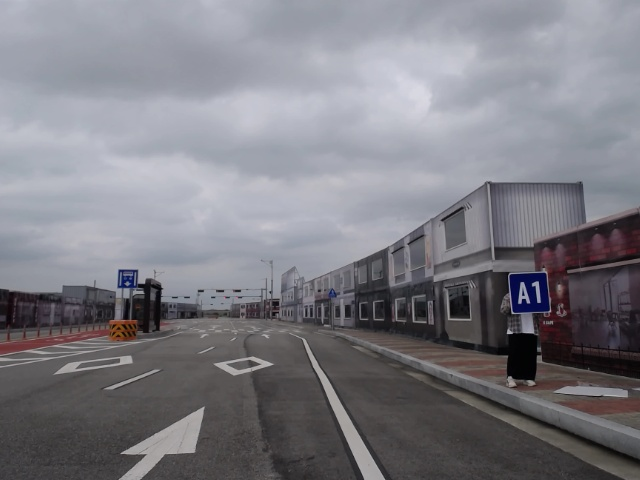delivery_a1: (509, 271, 551, 313)
